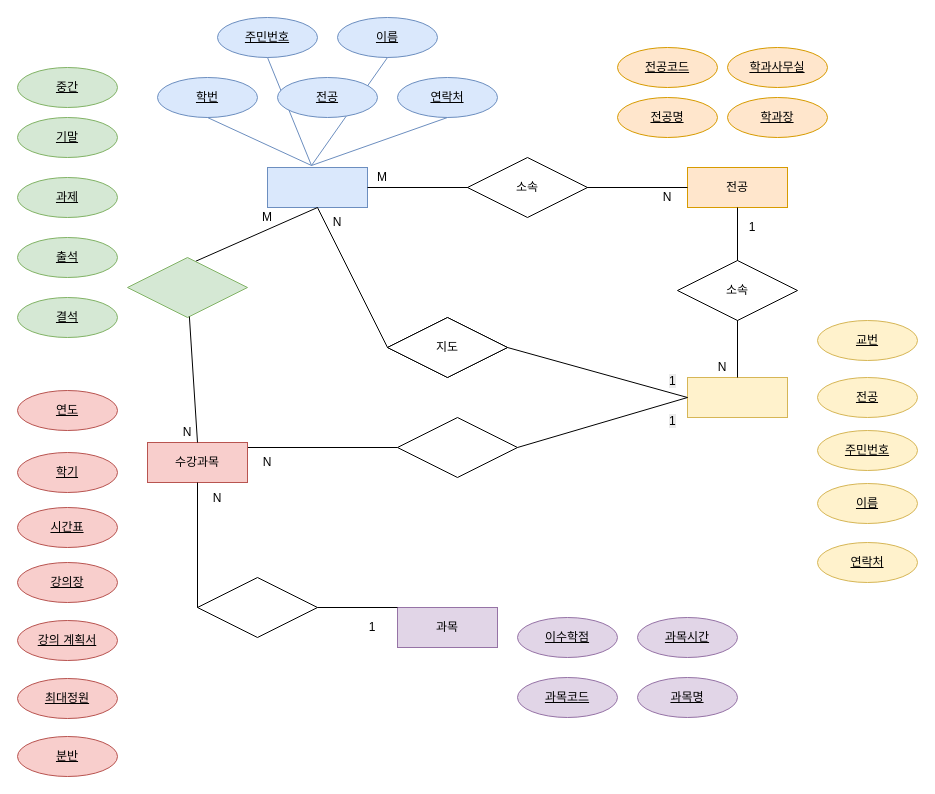
This 935x794 diagram has some shape labels left out. The box of each missing label's shape, as (x1, y1, x2, y2) in pixels:
강의: (396, 416, 518, 478)
교수: (686, 376, 788, 418)
수강신청: (126, 256, 248, 318)
포함: (196, 576, 318, 638)
학생: (266, 166, 368, 208)
